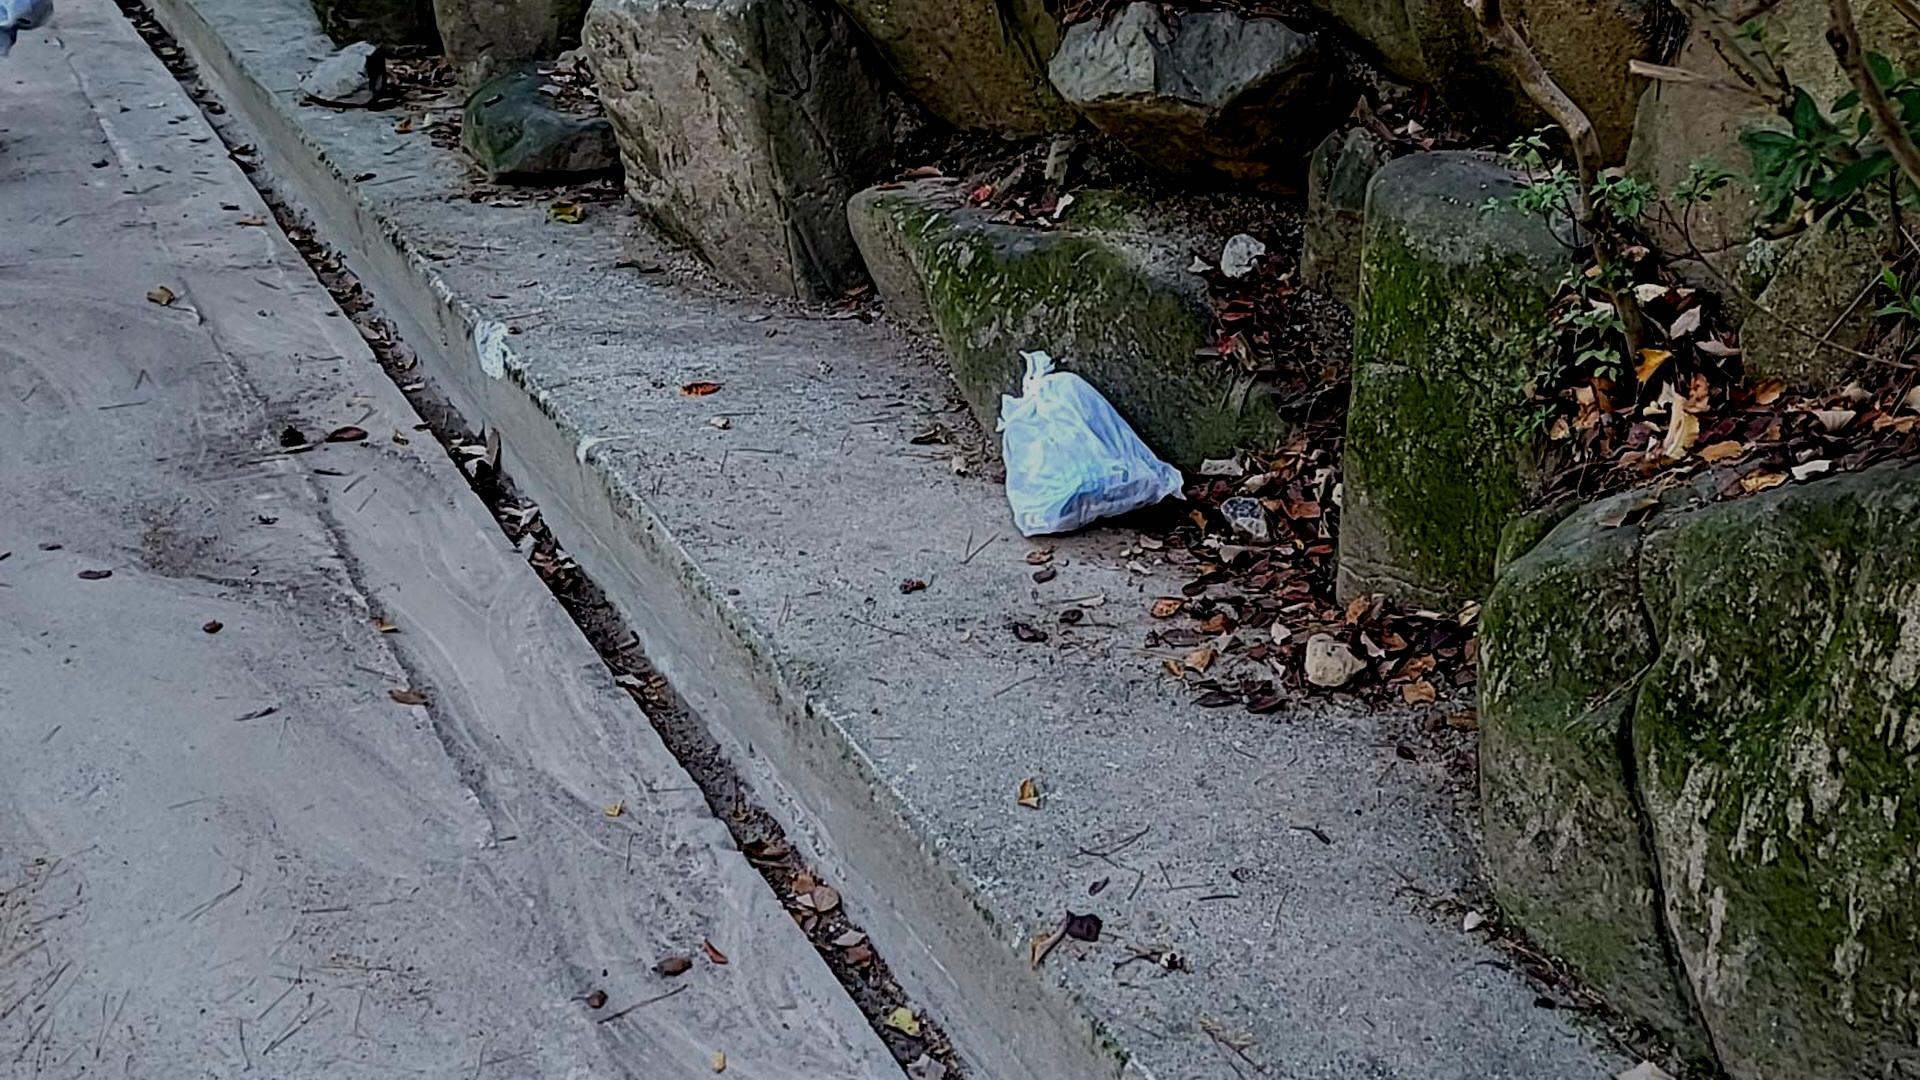white_bag: (977, 336, 1199, 546)
